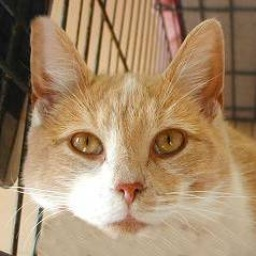cat: (18, 10, 256, 256)
